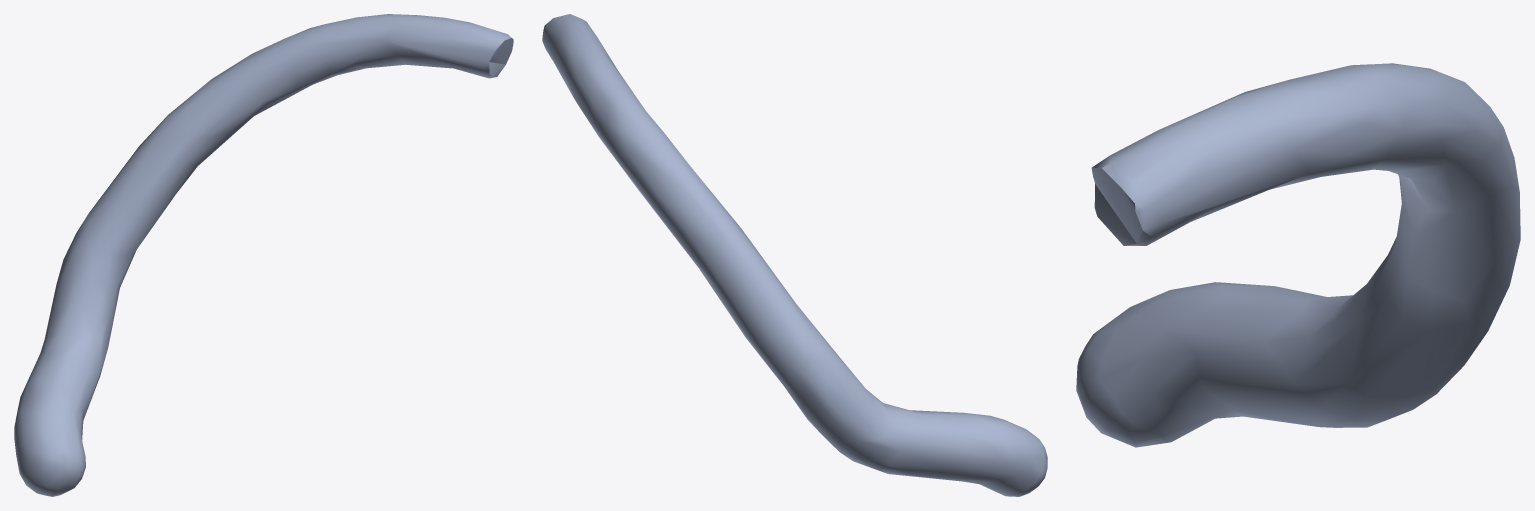
The model's file is coronary-sinus.glb.
3 views of the same model, side by side, from view 1: azimuth 30°, elevation 25°; view 2: azimuth 150°, elevation 25°; view 3: azimuth 270°, elevation 25° (orthographic). The views are drawn at different scales.
Visible parts, largest first — view 1: structure; view 2: structure; view 3: structure.
Boxes of the visible parts, left/top/right/bottom form: structure: left=14, top=14, right=513, bottom=496; structure: left=542, top=14, right=1047, bottom=496; structure: left=1076, top=63, right=1520, bottom=447.
Size of the model in its own units: 48.79 by 34.46 by 19.18.
